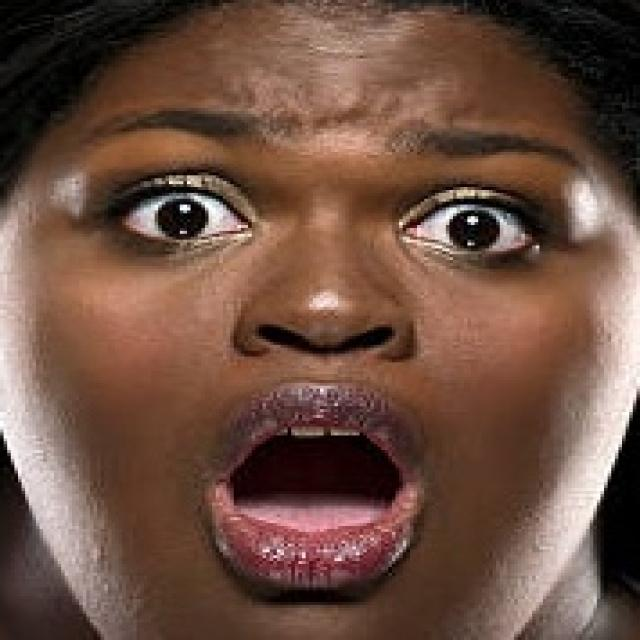Anxiety: (4, 3, 640, 637)
